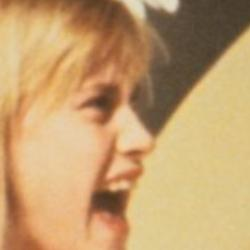face: (3, 3, 178, 249)
